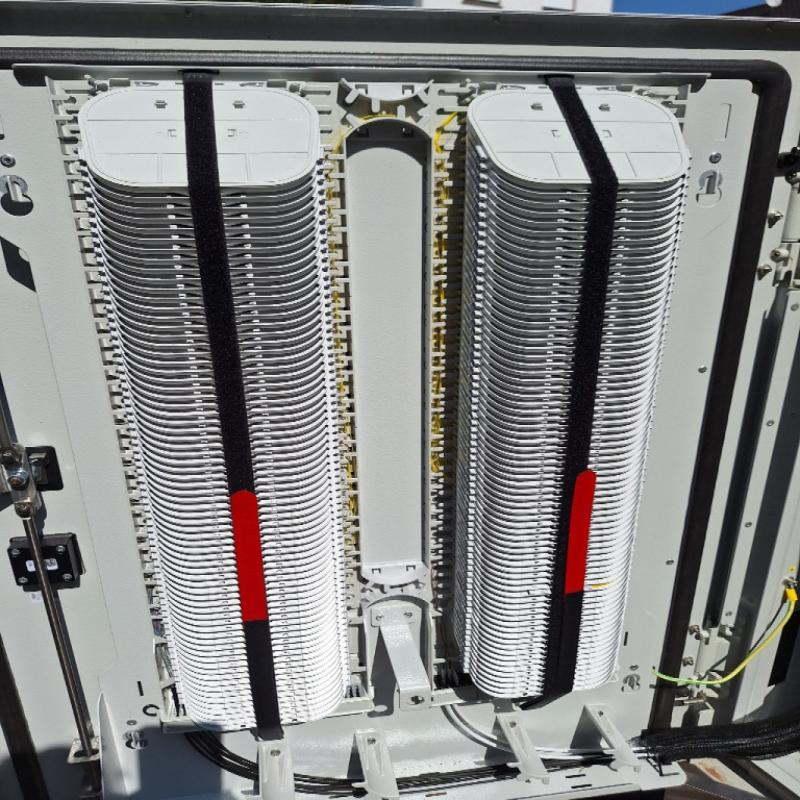NT-Gehause: (0, 0, 791, 800)
Spleiskassetten: (38, 61, 361, 733), (413, 69, 708, 707)
